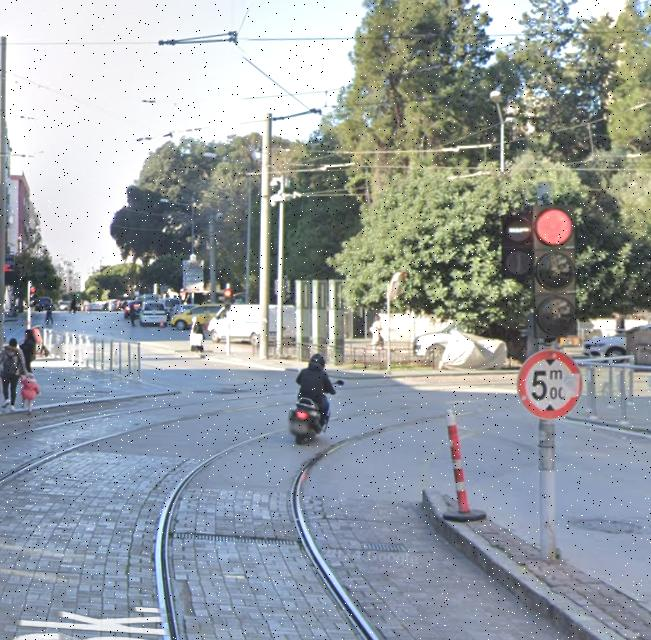redlight: (530, 204, 580, 338)
